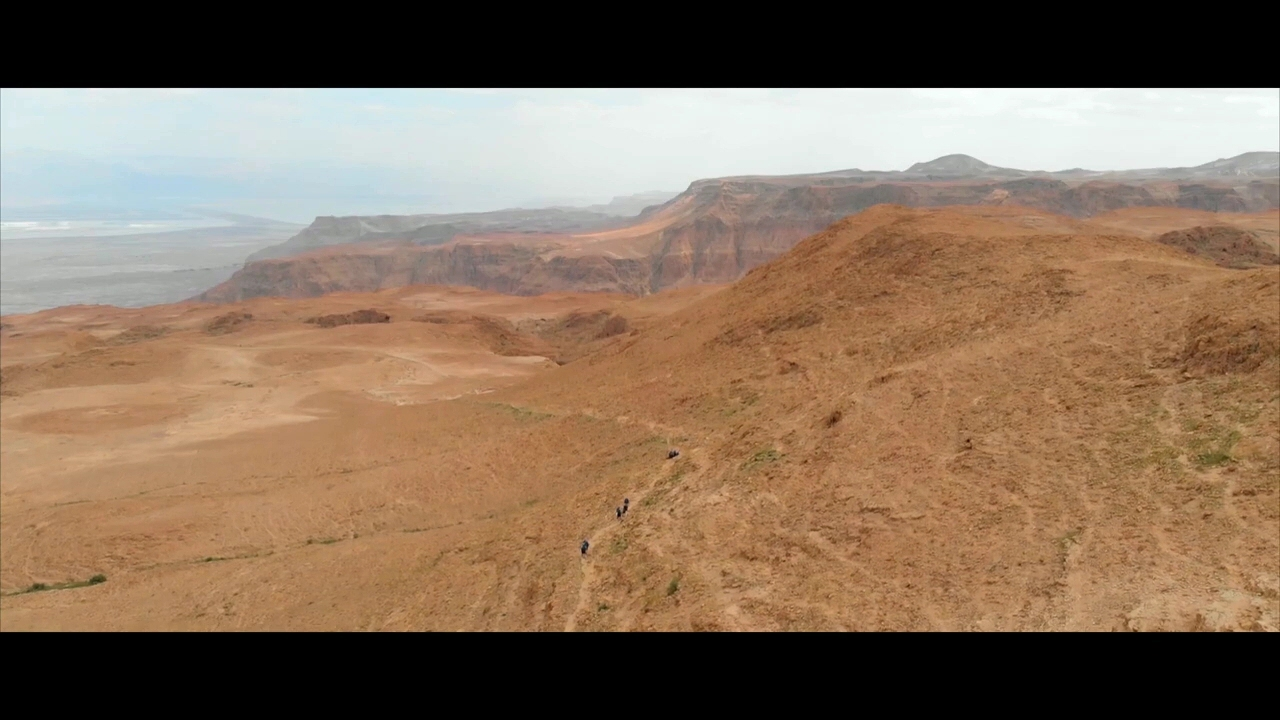insan: (579, 537, 590, 562), (615, 507, 622, 520)
